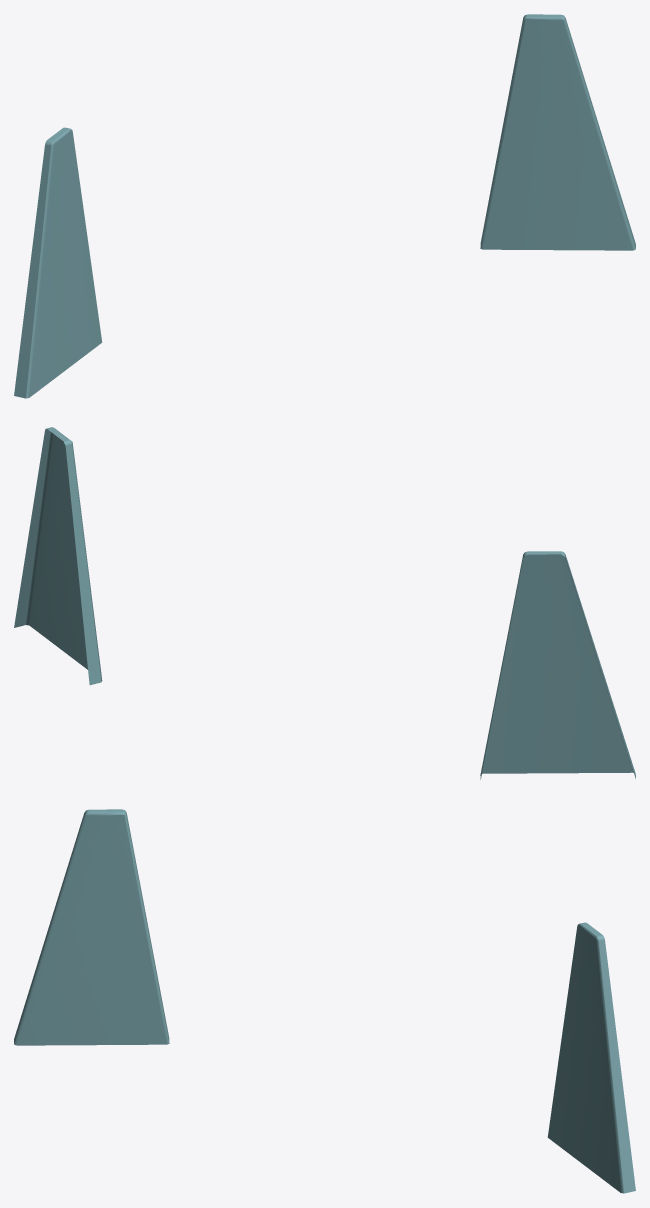
File: panel_galaxy_screen_detail.fbx
3 views of the same model, one above another, from view 1: azimuth 30°, elevation 25°; view 2: azimuth 150°, elevation 25°; view 3: azimuth 330°, elevation 25° (orthographic).
Visible parts, largest first — view 1: panel_galaxy_screen_detail; view 2: panel_galaxy_screen_detail; view 3: panel_galaxy_screen_detail.
Boxes of the visible parts, box(x1,y1,x2,y2) form: panel_galaxy_screen_detail: box(14, 14, 635, 398); panel_galaxy_screen_detail: box(14, 427, 635, 779); panel_galaxy_screen_detail: box(14, 809, 635, 1193).
Bounding box in the file's own units: 539 × 189 × 69.03.
